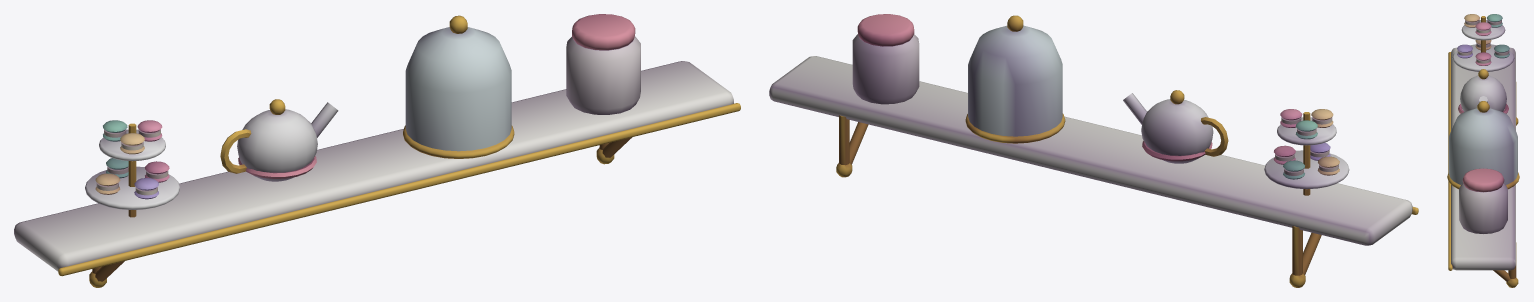
File: shelf_patisserie.glb
3 views of the same model, side by side, from view 1: azimuth 30°, elevation 25°; view 2: azimuth 150°, elevation 25°; view 3: azimuth 270°, elevation 25° (orthographic). The views are drawn at different scales.
Visible parts, largest first — view 1: shelf_patisserie; view 2: shelf_patisserie; view 3: shelf_patisserie.
Part boxes in pixels (x1,y1,x2,y2): shelf_patisserie: [14, 14, 740, 287]; shelf_patisserie: [769, 14, 1418, 287]; shelf_patisserie: [1447, 14, 1519, 287].
Bounding box in the file's own units: 2.26 × 0.6481 × 0.32.
